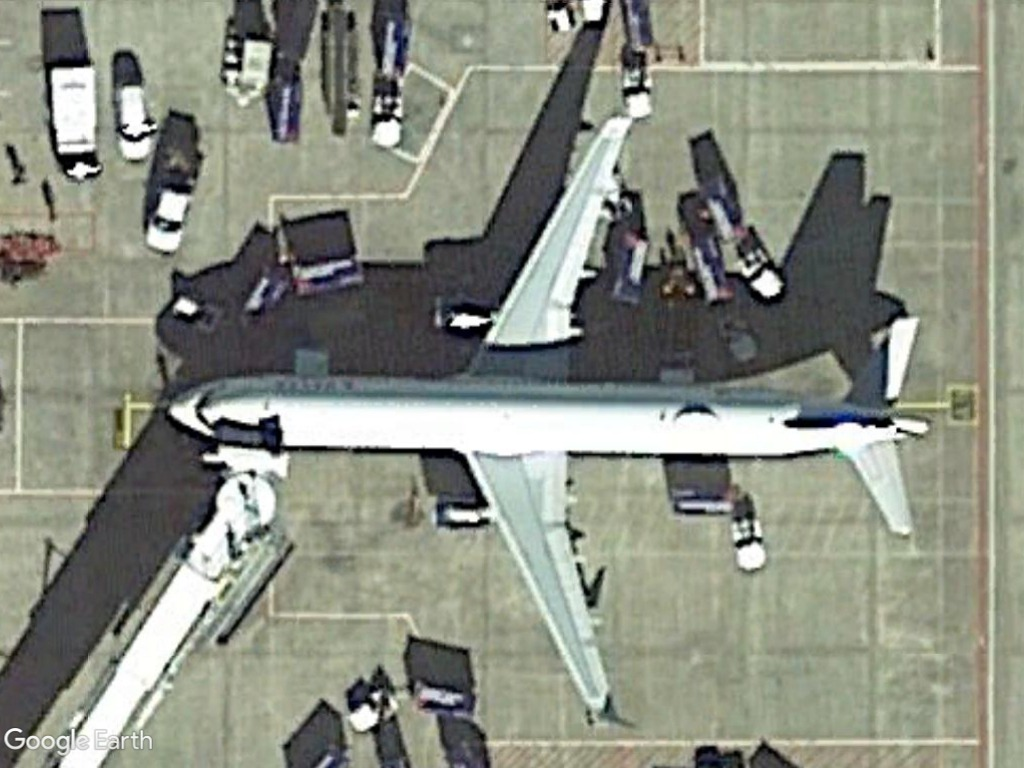airliner: (145, 107, 944, 729)
car: (112, 76, 154, 164)
